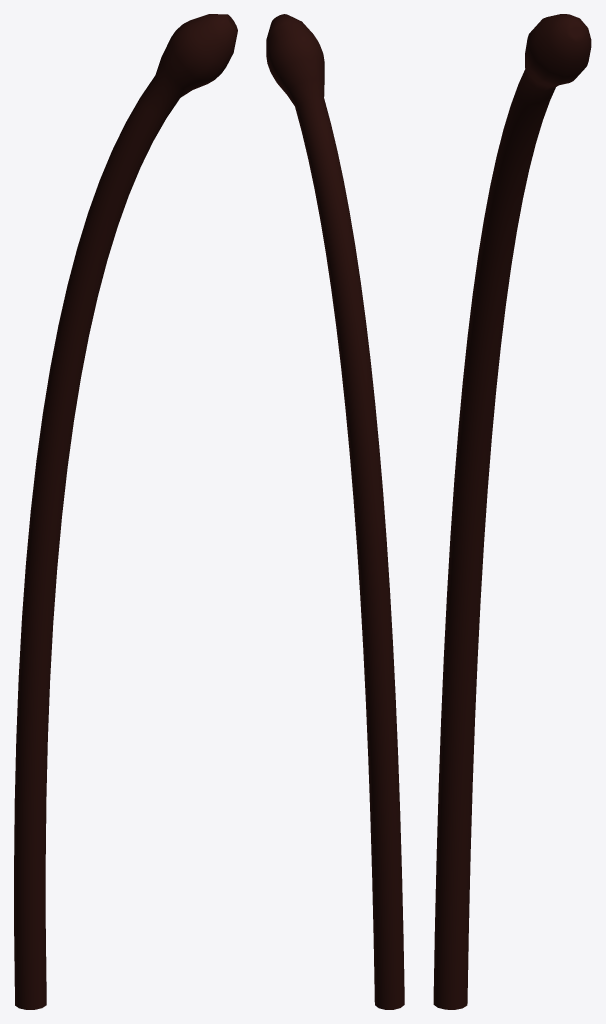
Rendered from wick.001.fbx.
3 renders of one model, left to right at view 1: azimuth 30°, elevation 25°; view 2: azimuth 150°, elevation 25°; view 3: azimuth 330°, elevation 25°, orthographic. The views are drawn at different scales.
Visible parts, largest first — view 1: wick.001; view 2: wick.001; view 3: wick.001.
Part boxes in pixels (left/top/right/bottom): wick.001: left=14, top=14, right=237, bottom=1009; wick.001: left=266, top=14, right=404, bottom=1009; wick.001: left=433, top=14, right=591, bottom=1009.
Size of the model in its own units: 0.6709 by 3.52 by 0.3933.
